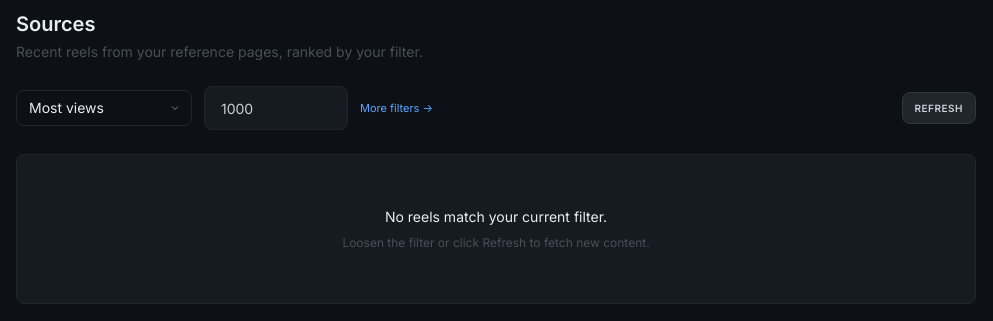
Test case: /sources page › surfaces rate-limited refresh with retry_after
Expected: the element with test id "sources-empty-filter" is shown, top-left (342, 208), bottom-right (650, 250)
Click the button with test id "sources-refresh" at (939, 108), box top-left (902, 92), bottom-right (976, 124)
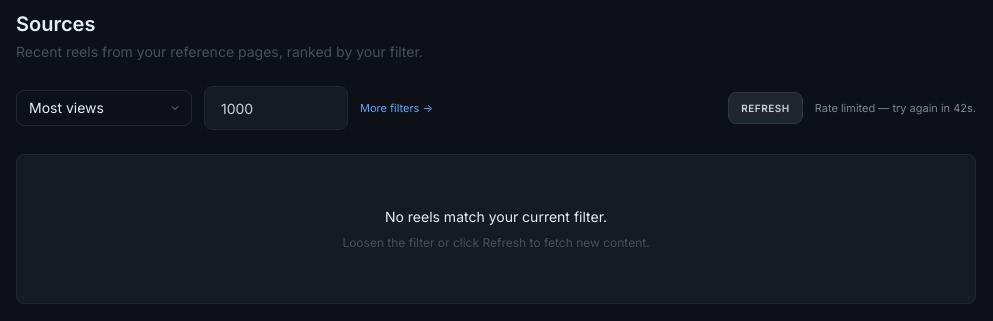
Expected: the message with test id "sources-refresh-note" reads "Rate limited — try again in 42s.", top-left (815, 101), bottom-right (976, 115)
